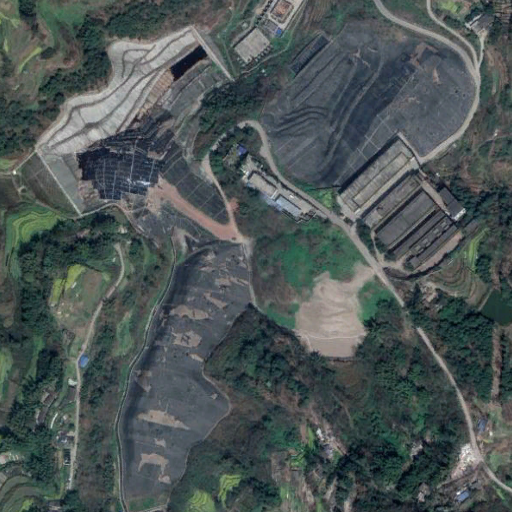lf: (32, 25, 255, 512), (255, 19, 476, 186)
